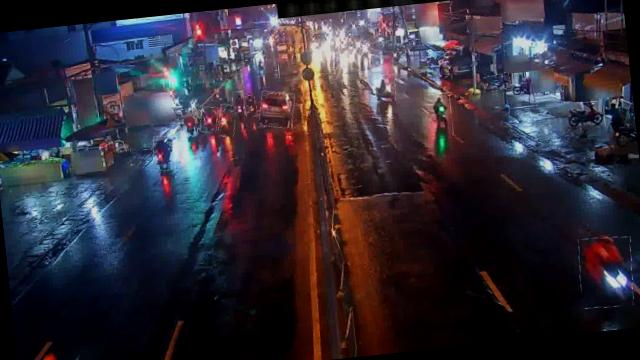Bike: (576, 235, 636, 310), (426, 93, 454, 137), (566, 101, 606, 131), (150, 136, 178, 172), (217, 103, 238, 138), (374, 73, 397, 102), (198, 105, 220, 134), (178, 108, 198, 138), (482, 74, 512, 93), (232, 92, 246, 121), (243, 96, 257, 118)
Car: (258, 89, 297, 129)
